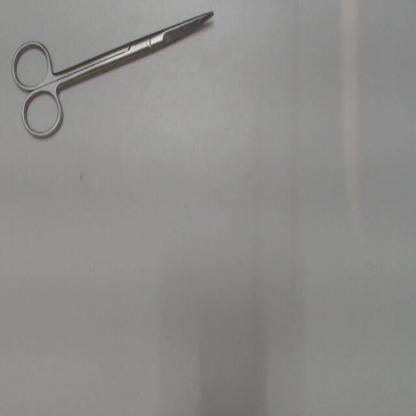Curved Mayo Scissors: (5, 6, 218, 146)
